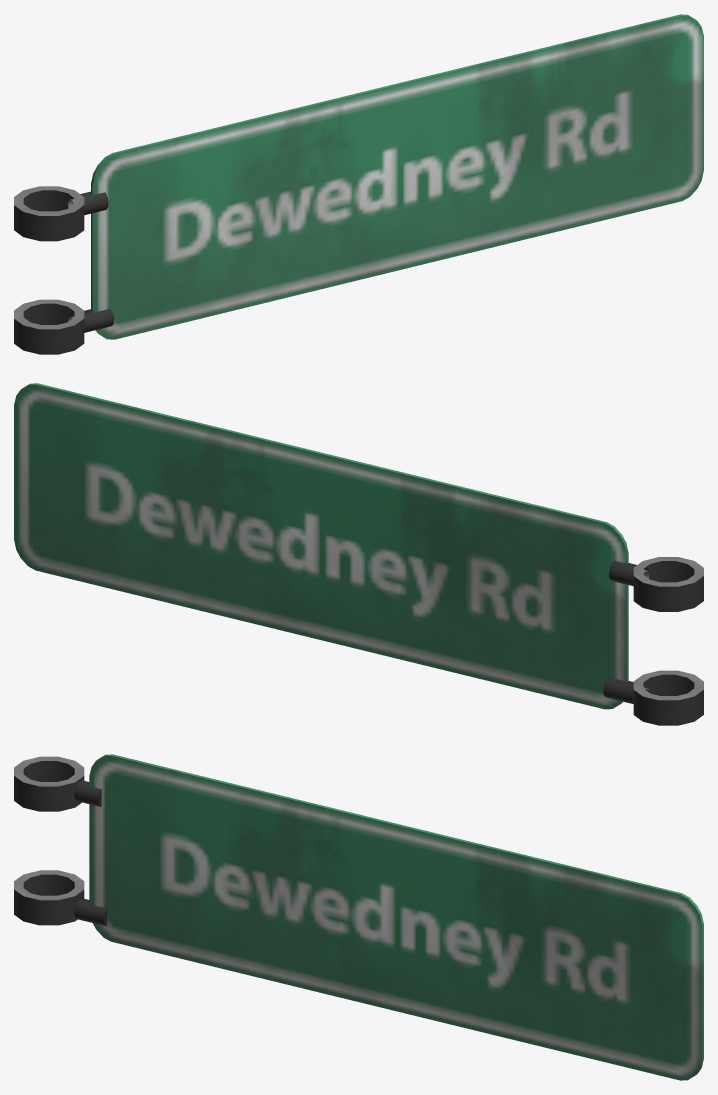
The model's file is Sign_St_Dewedney.fbx.
3 renders of one model, top to bottom at view 1: azimuth 30°, elevation 25°; view 2: azimuth 150°, elevation 25°; view 3: azimuth 330°, elevation 25°, orthographic.
Parts seen in each view (by area): view 1: Sign_St_Dewedney; view 2: Sign_St_Dewedney; view 3: Sign_St_Dewedney.
Part boxes in pixels (x1=…): Sign_St_Dewedney: x1=14, y1=14, x2=703, y2=354; Sign_St_Dewedney: x1=14, y1=383, x2=703, y2=725; Sign_St_Dewedney: x1=14, y1=754, x2=703, y2=1080.
Size of the model in its own units: 158 by 40.91 by 14.06.
